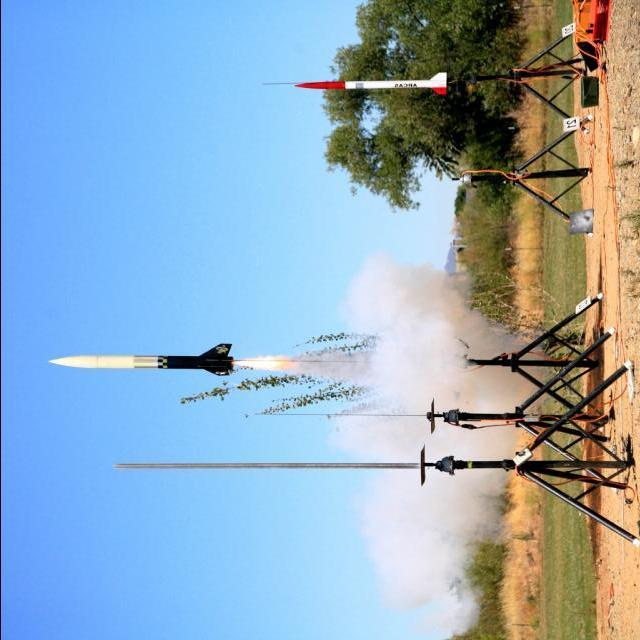missile: (46, 341, 233, 379), (294, 71, 453, 106)
